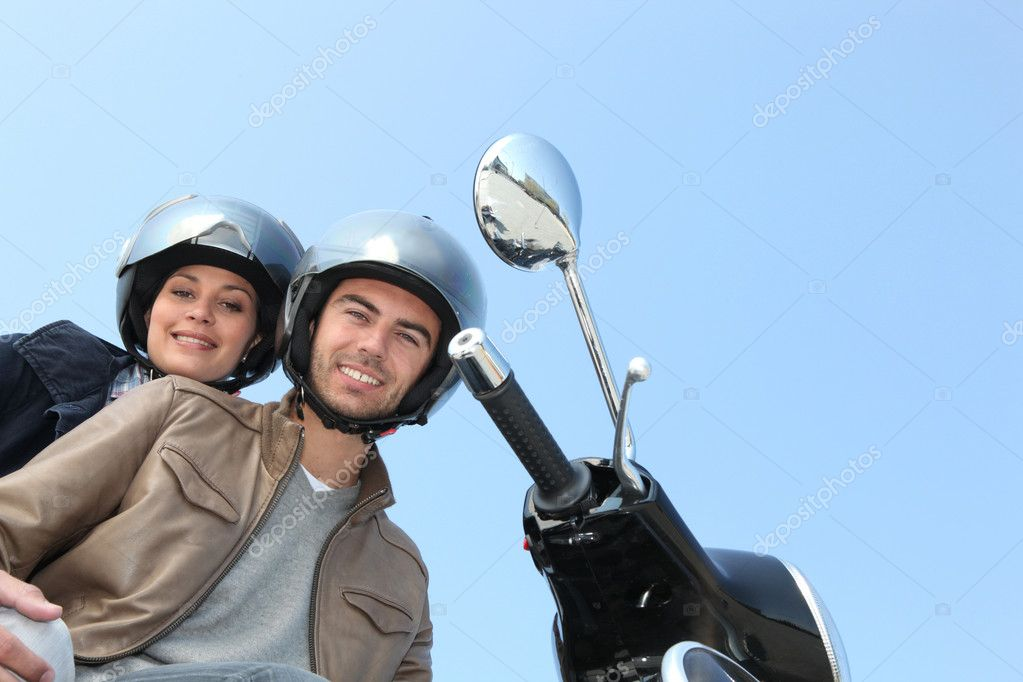helmet: (297, 191, 479, 346), (128, 191, 299, 337)
